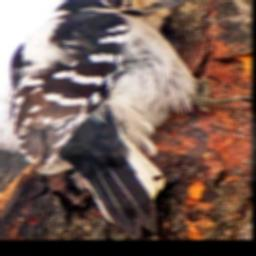Woodpecker: (0, 0, 249, 240)
